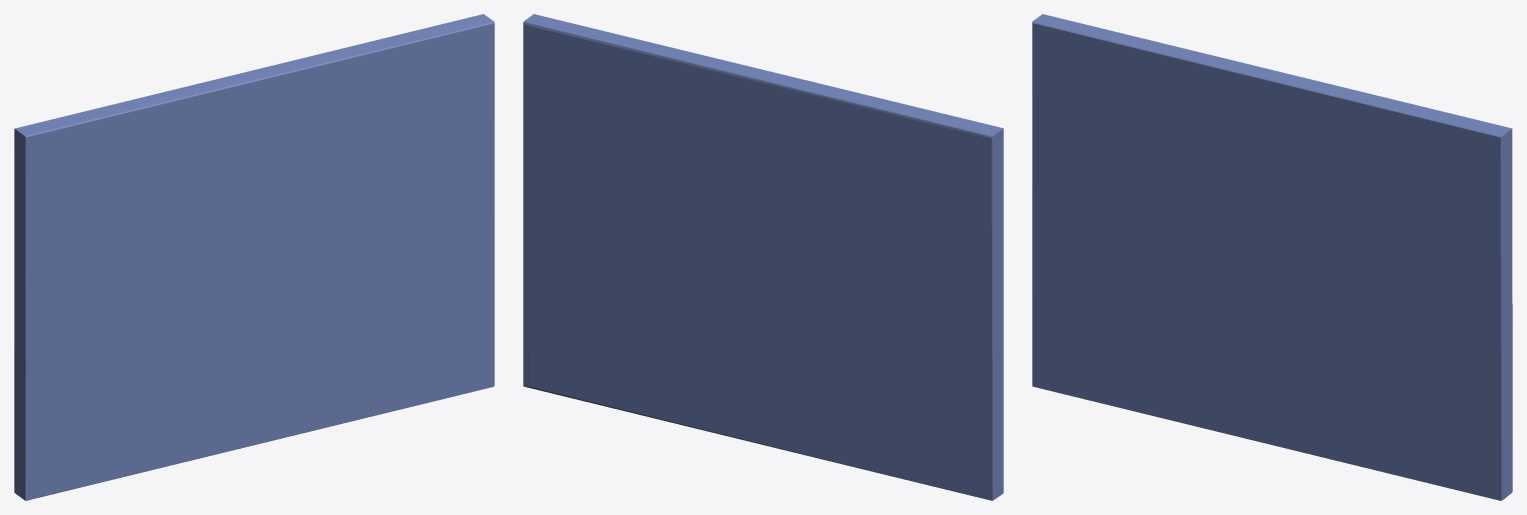
Rendered from misc_notebook_a01.glb.
3 renders of one model, left to right at view 1: azimuth 30°, elevation 25°; view 2: azimuth 150°, elevation 25°; view 3: azimuth 330°, elevation 25°, orthographic.
Parts seen in each view (by area): view 1: geometry_0; view 2: geometry_0; view 3: geometry_0.
Boxes of the visible parts, <box> form: geometry_0: <box>14,14,494,500</box>; geometry_0: <box>523,14,1003,500</box>; geometry_0: <box>1032,14,1512,500</box>.
Size of the model in its own units: 0.48 by 0.3564 by 0.0205.
